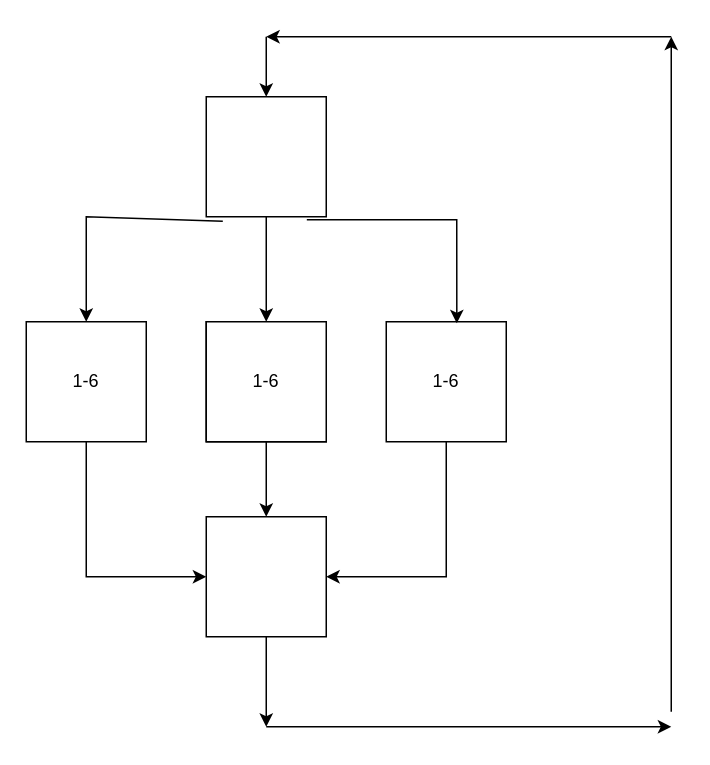
This 710x765 diagram has some shape labels left out. The shapes that lost their labels are listed below. From the top down, each one's centre as x and y in pixels, then its label:
At (265,156): "Rrandom() 1-3 0-5".
At (265,576): "Measure Result".
